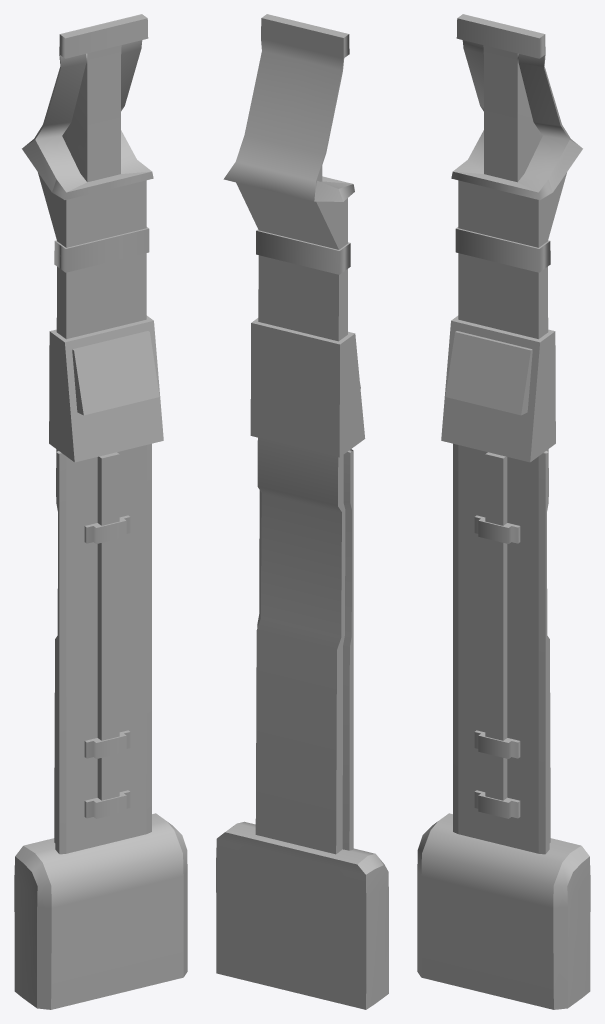
The model's file is KF_SM_Connector.fbx.
3 views of the same model, side by side, from view 1: azimuth 30°, elevation 25°; view 2: azimuth 150°, elevation 25°; view 3: azimuth 330°, elevation 25° (orthographic).
Parts seen in each view (by area): view 1: KF_SM_Connector; view 2: KF_SM_Connector; view 3: KF_SM_Connector.
Part boxes in pixels (x1=…): KF_SM_Connector: x1=14, y1=14, x2=187, y2=1009; KF_SM_Connector: x1=216, y1=14, x2=388, y2=1009; KF_SM_Connector: x1=417, y1=14, x2=590, y2=1009.
Size of the model in its own units: 162 by 977 by 101.
